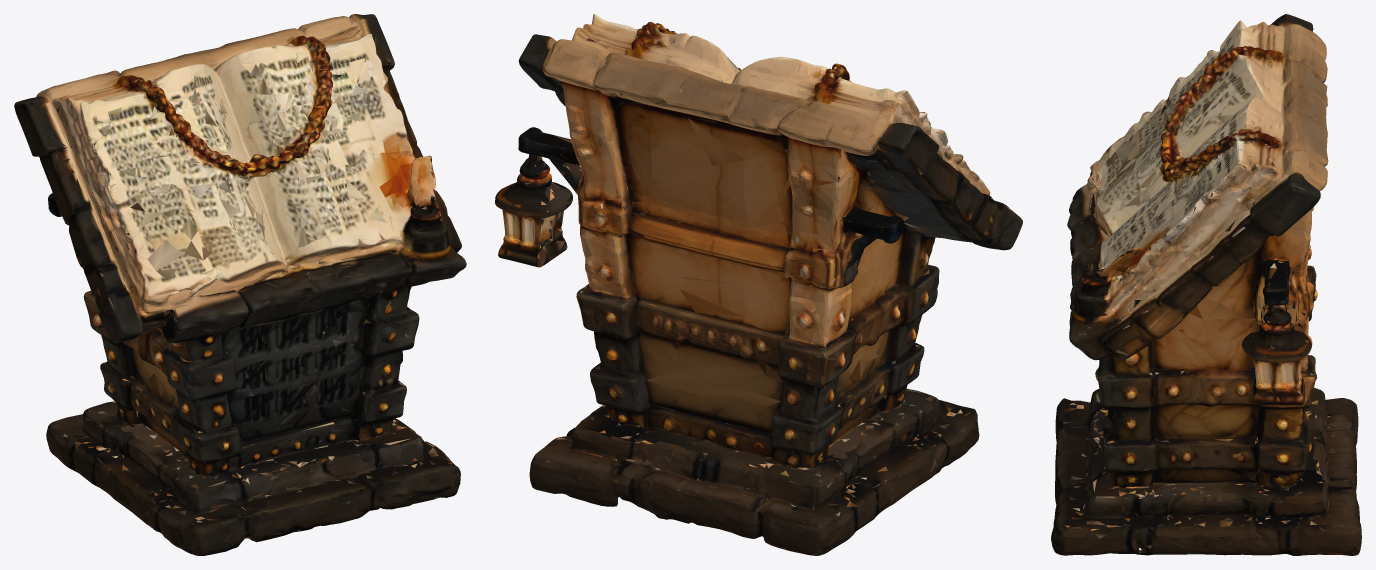
Rendered from deep-ledger.glb.
3 views of the same model, side by side, from view 1: azimuth 30°, elevation 25°; view 2: azimuth 150°, elevation 25°; view 3: azimuth 270°, elevation 25° (orthographic). The views are drawn at different scales.
Visible parts, largest first — view 1: geometry_0; view 2: geometry_0; view 3: geometry_0.
Boxes of the visible parts, <box> form: geometry_0: <box>14,14,466,555</box>; geometry_0: <box>495,14,1022,555</box>; geometry_0: <box>1051,14,1361,555</box>.
Bounding box in the file's own units: 2.01 × 2 × 1.39.
Materials: 1 (1 with a texture image).
